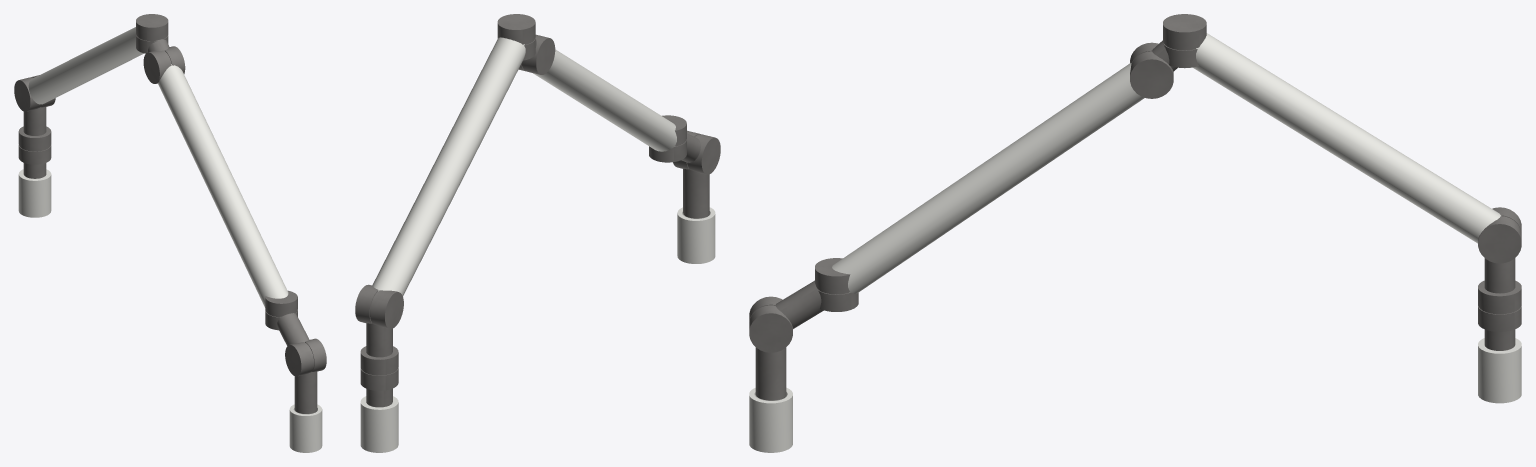
File: ax_util_15_station_arm_arm_deployed.glb
3 renders of one model, left to right at view 1: azimuth 30°, elevation 25°; view 2: azimuth 150°, elevation 25°; view 3: azimuth 270°, elevation 25°, orthographic. The views are drawn at different scales.
Parts seen in each view (by area): view 1: arm_link_3, arm_link_5, end_effector_b, end_effector_a, joint_1, joint_6, joint_4, joint_3, arm_link_1, joint_2, arm_link_2, joint_5 (+2 smaller); view 2: arm_link_5, arm_link_3, end_effector_a, end_effector_b, joint_5, joint_6, arm_link_1, joint_4, joint_1, joint_2, joint_3, arm_link_6 (+1 smaller); view 3: arm_link_3, arm_link_5, end_effector_b, end_effector_a, joint_4, joint_1, joint_3, joint_5, joint_6, joint_2, arm_link_1, arm_link_2 (+1 smaller).
Part boxes in pixels (x1,y1,x2,y2): arm_link_3: (158,64,288,307); arm_link_5: (28,27,143,104); end_effector_b: (18,169,51,217); end_effector_a: (289,404,322,452); joint_1: (285,338,326,376); joint_6: (18,126,51,164); joint_4: (136,14,168,53); joint_3: (143,46,185,83); arm_link_1: (294,371,317,413); joint_2: (265,290,297,330); arm_link_2: (277,313,309,345); joint_5: (14,75,55,111); arm_link_5: (372,37,525,295); arm_link_3: (533,49,676,151); end_effector_a: (677,207,715,263); end_effector_b: (360,396,398,452); joint_5: (355,284,403,328); joint_6: (360,346,398,390); arm_link_1: (683,169,709,218); joint_4: (497,14,535,60); joint_1: (673,130,720,174); joint_2: (649,115,686,162); joint_3: (518,34,555,74); arm_link_6: (366,323,392,357); arm_link_3: (832,63,1144,293); arm_link_5: (1193,33,1500,243); end_effector_b: (1478,338,1521,403); end_effector_a: (749,387,792,452); joint_4: (1163,14,1206,68); joint_1: (749,296,792,352); joint_3: (1130,42,1173,98); joint_5: (1478,207,1521,263); joint_6: (1478,280,1521,331); joint_2: (815,258,858,311); arm_link_1: (755,347,786,400); arm_link_2: (775,280,823,328).
Bounding box in the file's own units: 0.4 × 4.24 × 7.06.
Materials: 2 (1 with a texture image).
